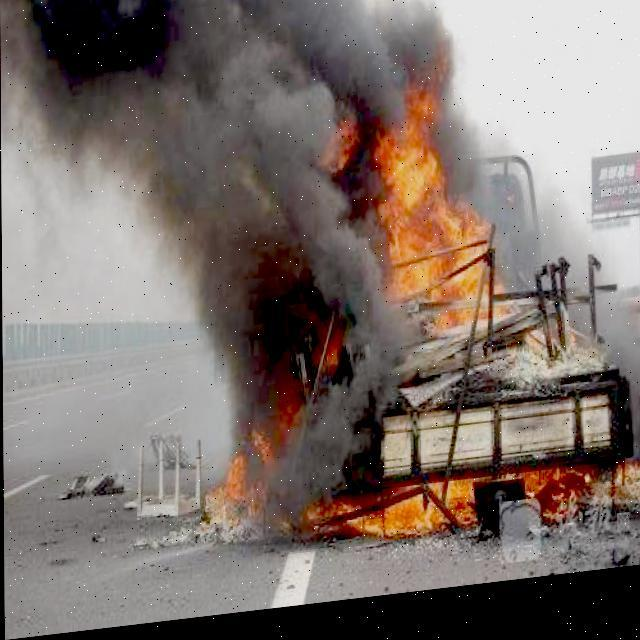Fire: (204, 36, 600, 558)
